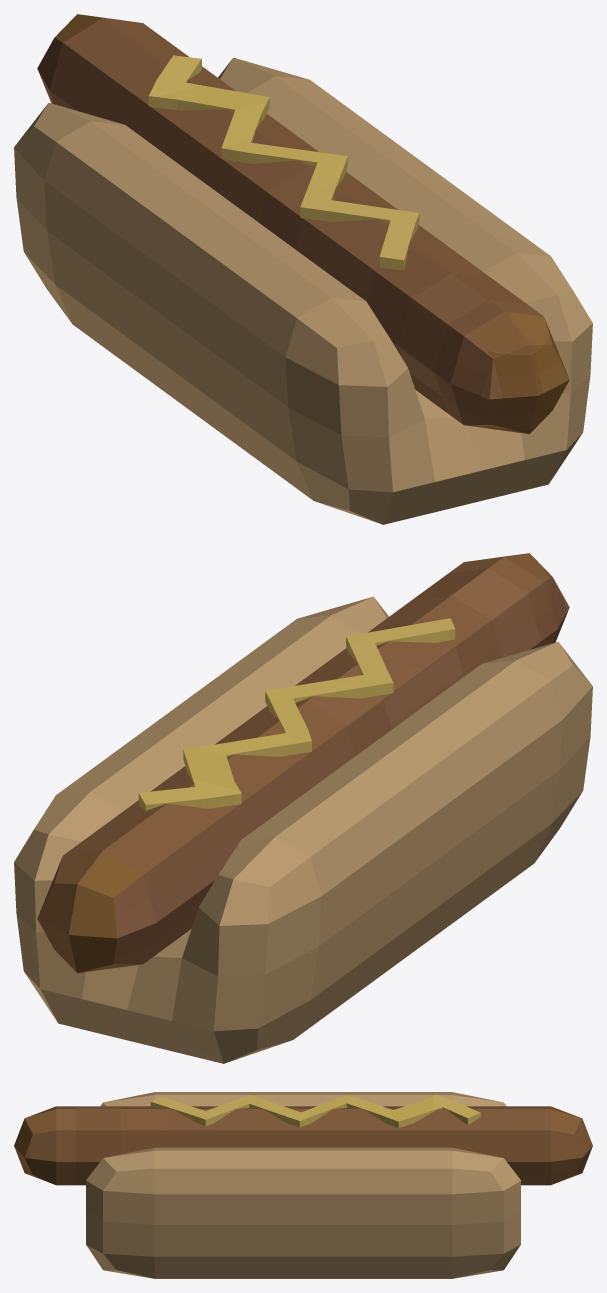
Rendered from hotdog.gltf.
3 views of the same model, one above another, from view 1: azimuth 30°, elevation 25°; view 2: azimuth 150°, elevation 25°; view 3: azimuth 270°, elevation 25° (orthographic). The views are drawn at different scales.
Parts seen in each view (by area): view 1: node-0; view 2: node-0; view 3: node-0.
Part boxes in pixels (x1,y1,x2,y2): node-0: (14,14,592,524); node-0: (14,553,592,1063); node-0: (14,1092,592,1278).
Size of the model in its own units: 0.4743 by 0.3865 by 1.39.
1 material, 1 textured.
